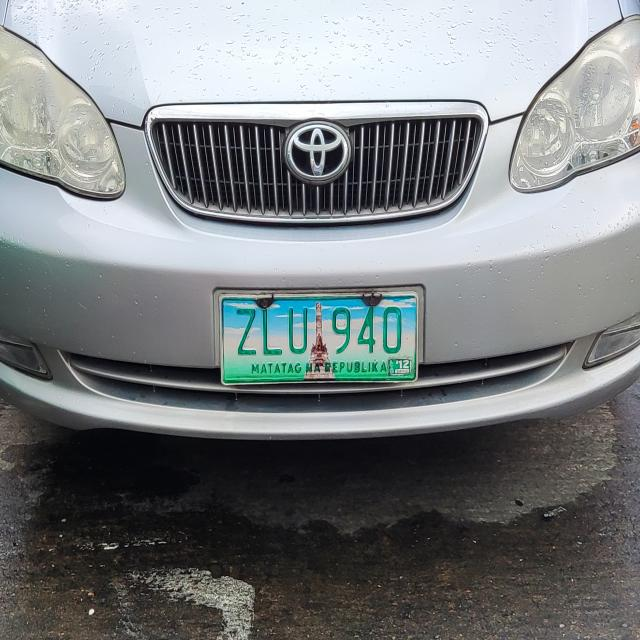plate: (215, 284, 425, 391)
